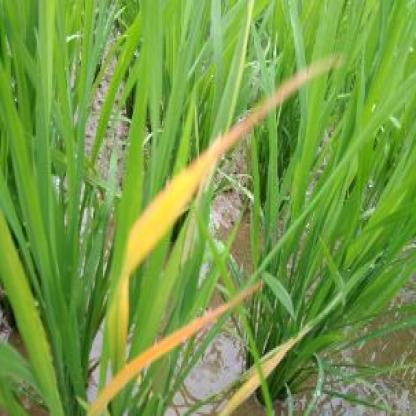Tungro: (122, 58, 331, 267)
